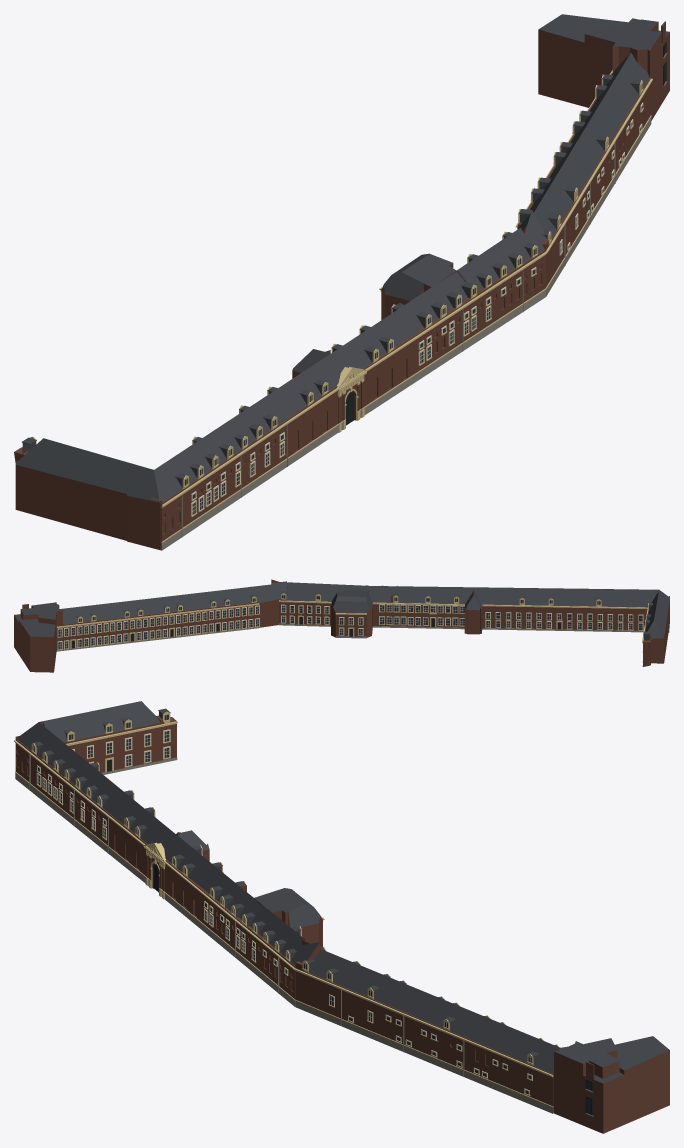
File: marinekazerne-kattenburgerstraat.glb
3 views of the same model, one above another, from view 1: azimuth 30°, elevation 25°; view 2: azimuth 150°, elevation 25°; view 3: azimuth 270°, elevation 25° (orthographic). The views are drawn at different scales.
Parts seen in each view (by area): view 1: marinekazerne-kattenburgerstraat; view 2: marinekazerne-kattenburgerstraat; view 3: marinekazerne-kattenburgerstraat.
Boxes of the visible parts, <box> form: marinekazerne-kattenburgerstraat: <box>14,14,669,550</box>; marinekazerne-kattenburgerstraat: <box>14,579,669,672</box>; marinekazerne-kattenburgerstraat: <box>14,701,669,1133</box>.
Size of the model in its own units: 157 by 12.47 by 114.
